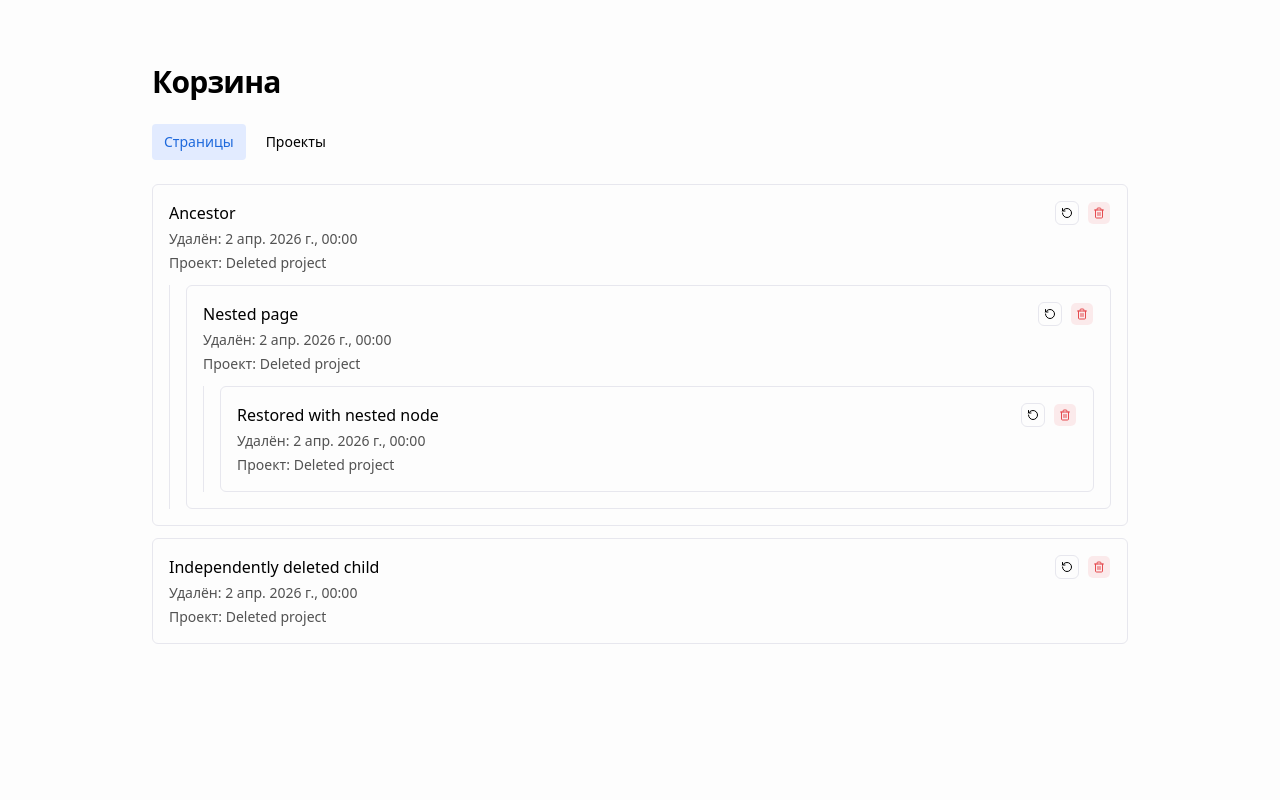
Scenario: корзина › выборочно восстанавливает вложенный узел, сохраняя SELF-потомка в корзине и дерево восстановленной ветви
The image size is (1280, 800).
Expected: the text "Nested page" is shown, [203, 303, 298, 325]
Click the button named "Восстановить: Nested page".
click(1050, 314)  # box [1038, 302, 1062, 326]
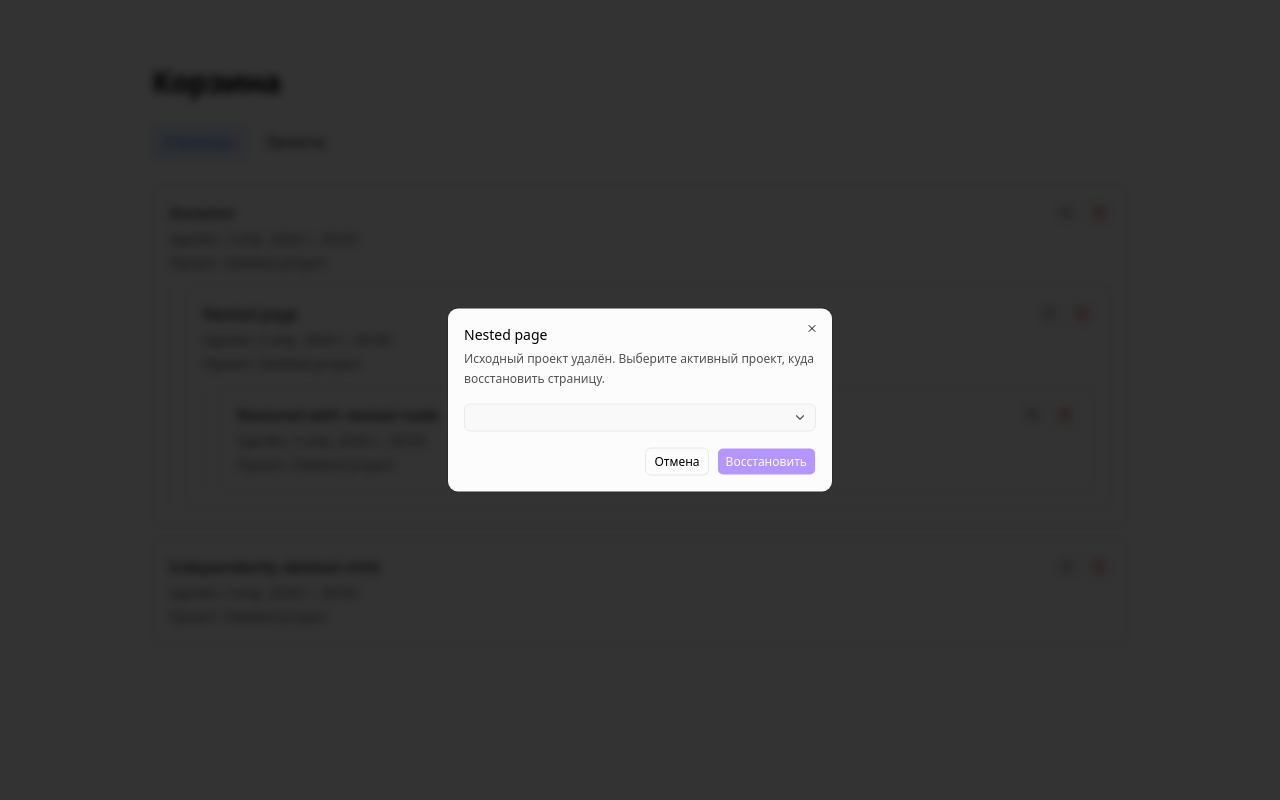
Click the dropdown named "Целевой проект".
click(800, 418)  # box [464, 404, 816, 432]
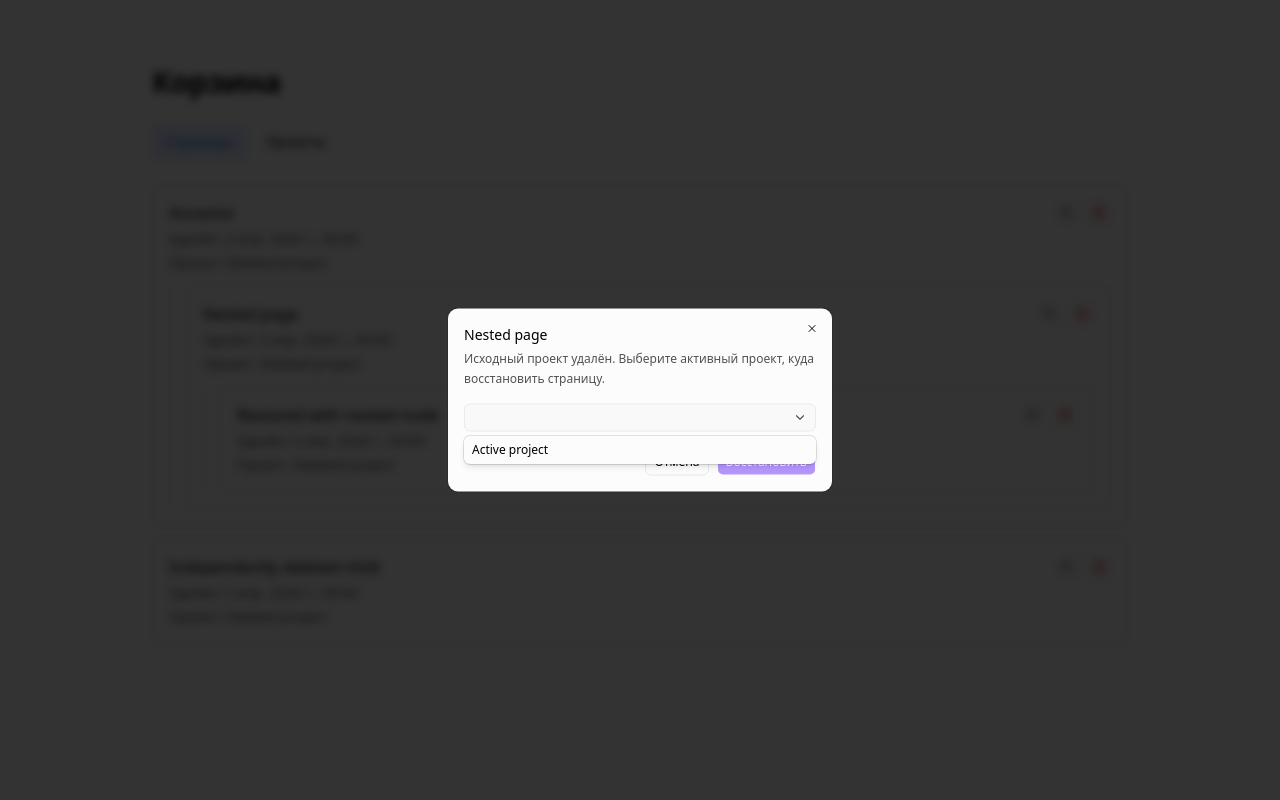
Click the option "Active project".
click(510, 450)  # box [472, 441, 548, 458]
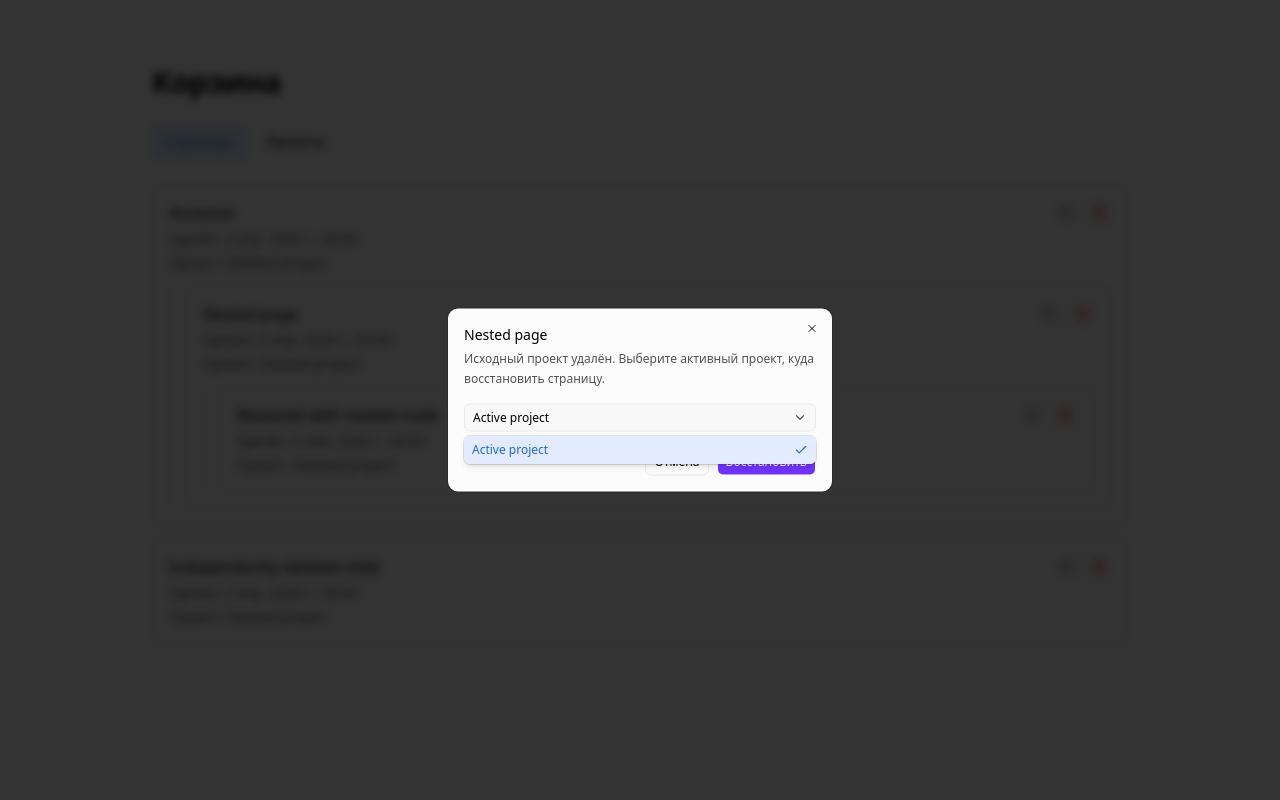
Click the button "Восстановить".
click(766, 462)  # box [717, 448, 816, 476]
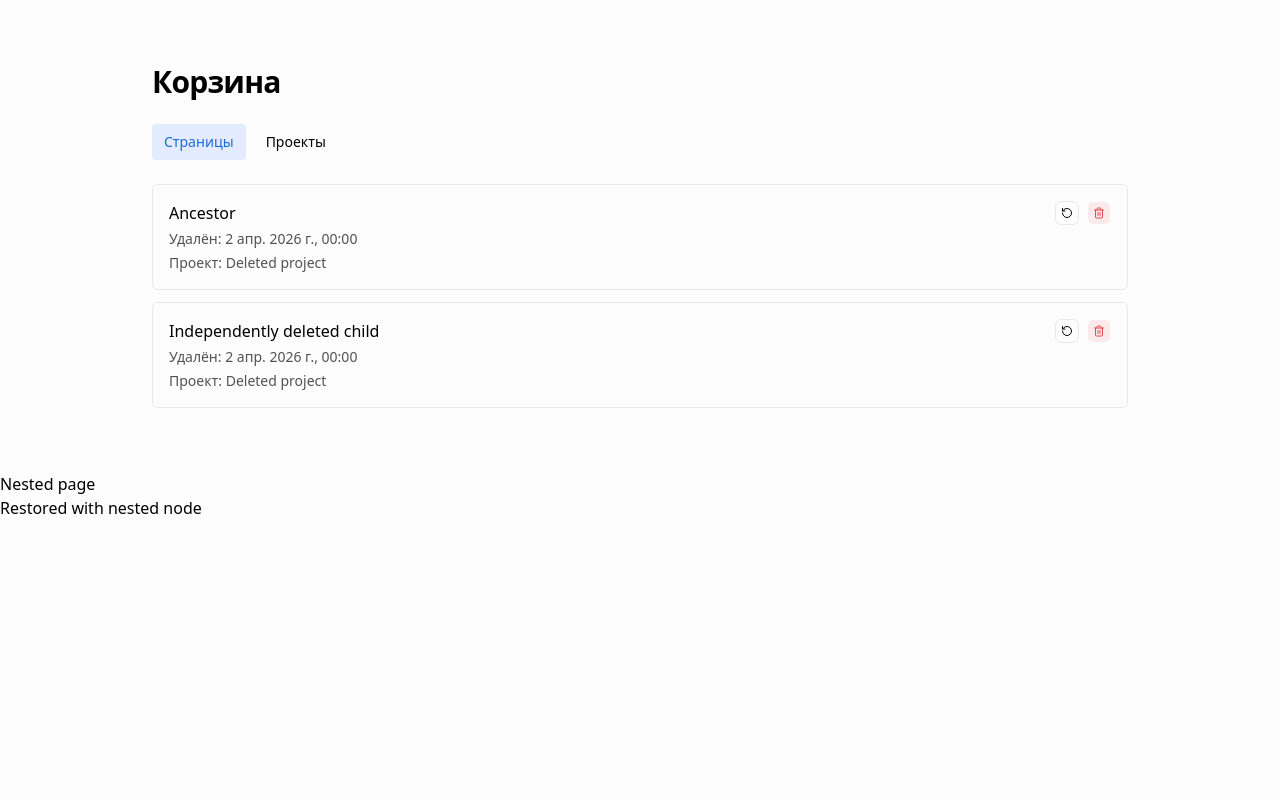
Expected: the list item "Ancestor" is shown, [169, 202, 236, 224]
Expected: the list item "Nested page" is shown, [0, 473, 95, 495]
